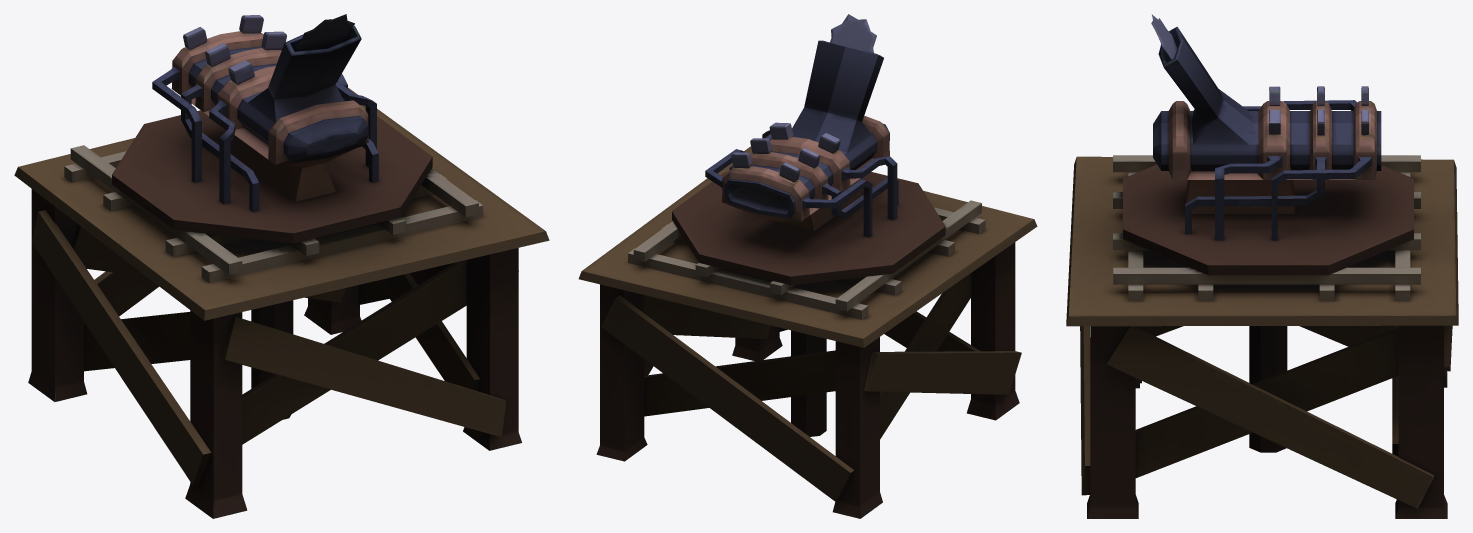
The model's file is tile_sawbladelauncher_lod0.fbx.
3 views of the same model, side by side, from view 1: azimuth 30°, elevation 25°; view 2: azimuth 150°, elevation 25°; view 3: azimuth 270°, elevation 25° (orthographic). The views are drawn at different scales.
Visible parts, largest first — view 1: Base_lod0, SawBlade_Launcher_lod0; view 2: Base_lod0, SawBlade_Launcher_lod0; view 3: Base_lod0, SawBlade_Launcher_lod0.
Boxes of the visible parts, bbox=[...] form: Base_lod0: bbox=[14, 88, 549, 518]; SawBlade_Launcher_lod0: bbox=[112, 14, 432, 419]; Base_lod0: bbox=[578, 146, 1037, 518]; SawBlade_Launcher_lod0: bbox=[672, 14, 945, 436]; Base_lod0: bbox=[1066, 155, 1458, 518]; SawBlade_Launcher_lod0: bbox=[1123, 14, 1413, 452].
Size of the model in its own units: 0.0327 by 0.0402 by 0.0335.
